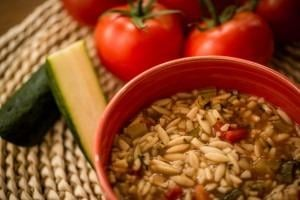steak: (93, 5, 185, 81), (62, 0, 129, 27)
sushi: (92, 55, 300, 197)
